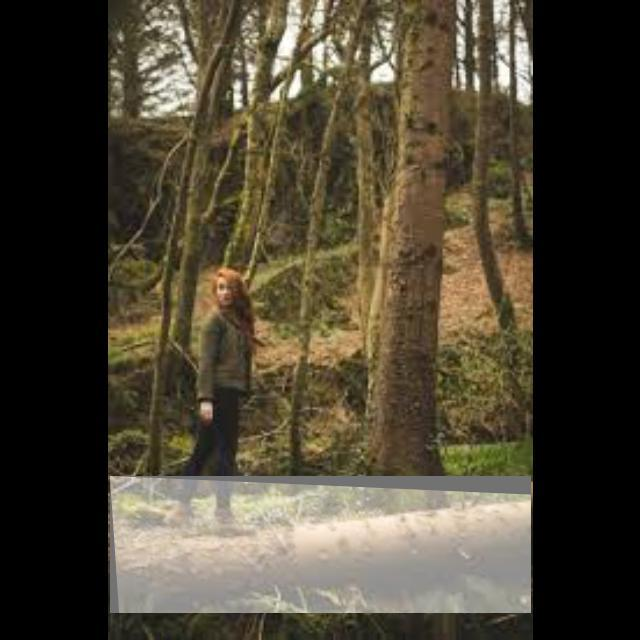fallen_tree: (110, 476, 532, 614)
